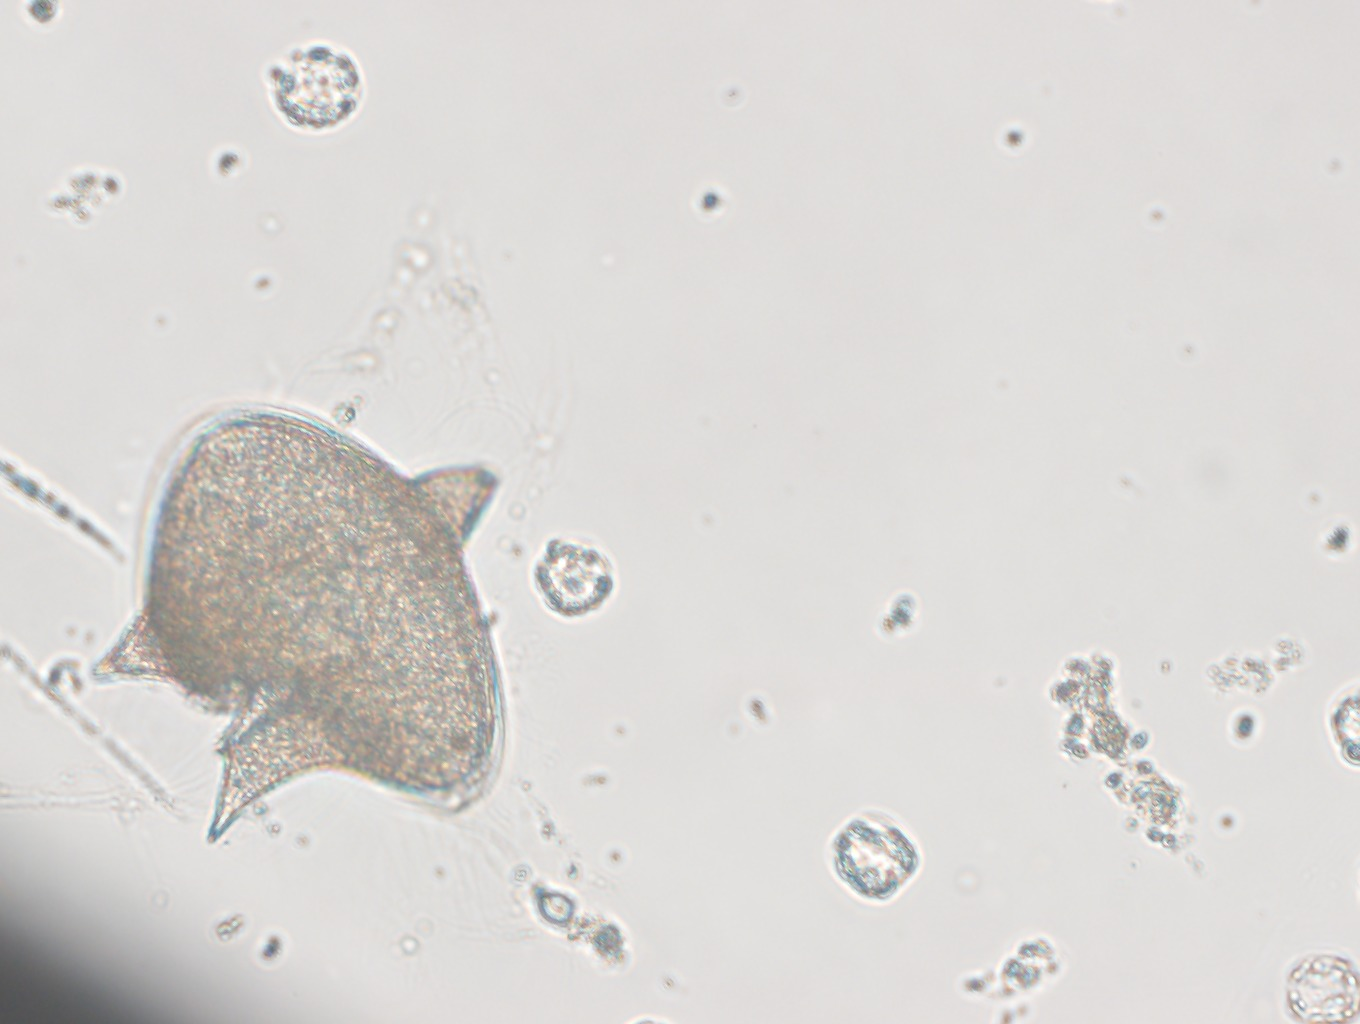protoperidinium: (90, 398, 504, 845)
